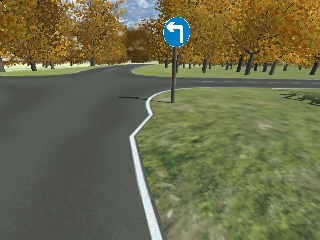left: (164, 17, 190, 47)
